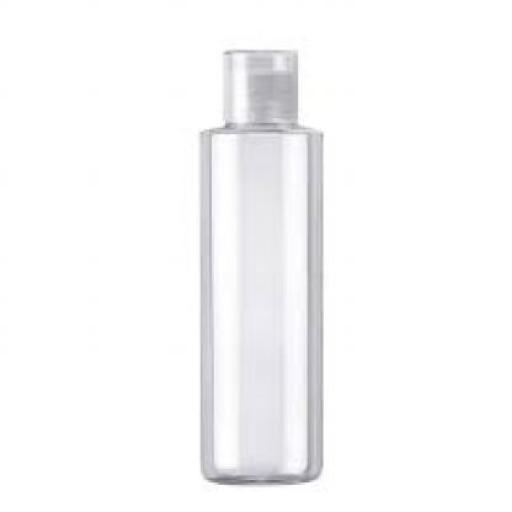plastic: (196, 46, 321, 482), (221, 46, 296, 126)
